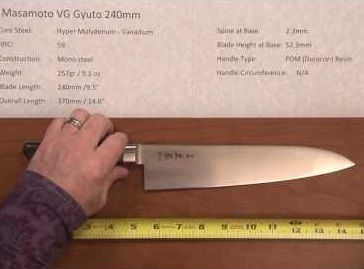knife: (70, 107, 358, 193)
